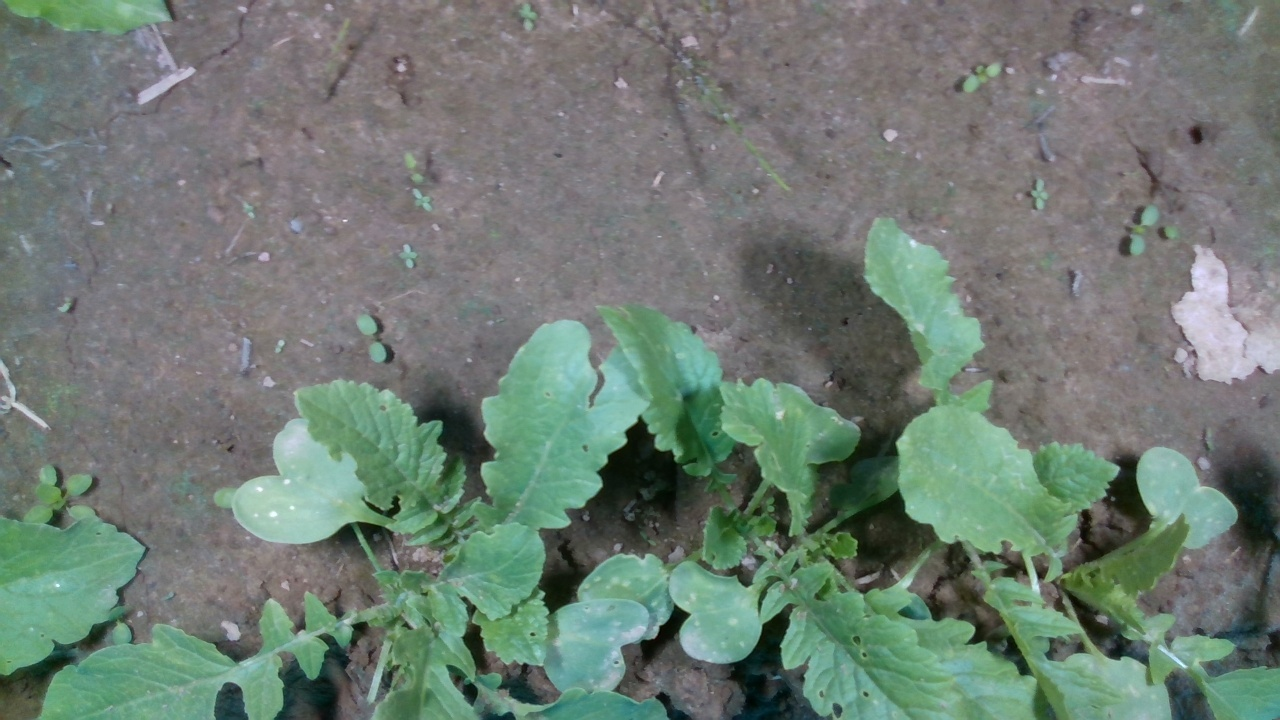weed: (354, 313, 388, 366), (1127, 202, 1159, 258), (960, 60, 1002, 94), (409, 187, 435, 214), (1029, 177, 1049, 210), (517, 2, 539, 31), (396, 243, 419, 270)
